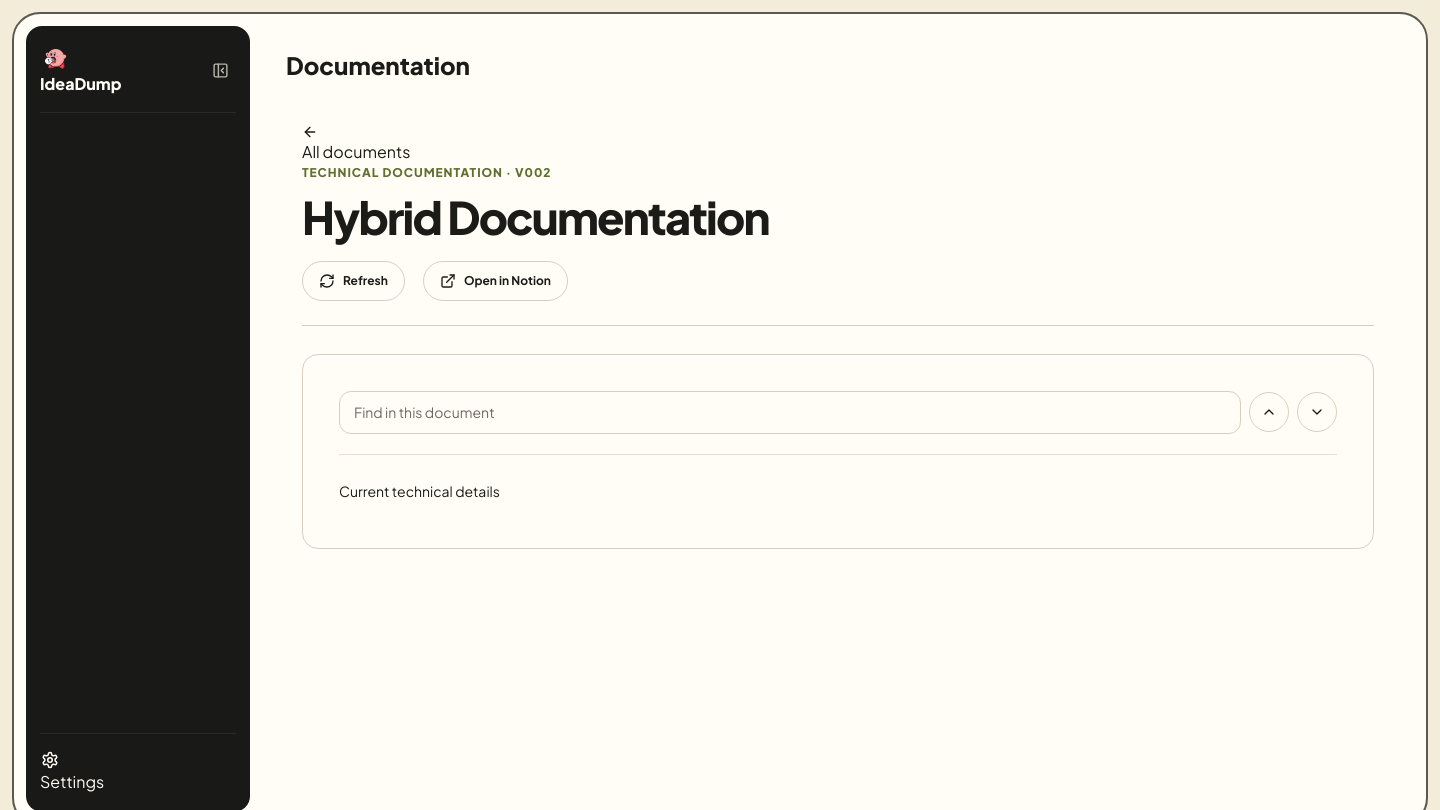
Test: documentation reader refresh › retains stale content after a provider failure and clears it after access is revoked
Expected: the text "Current technical details" is shown, [339,482,500,500]
Click the button "Refresh": (353, 281) [302,261,405,301]
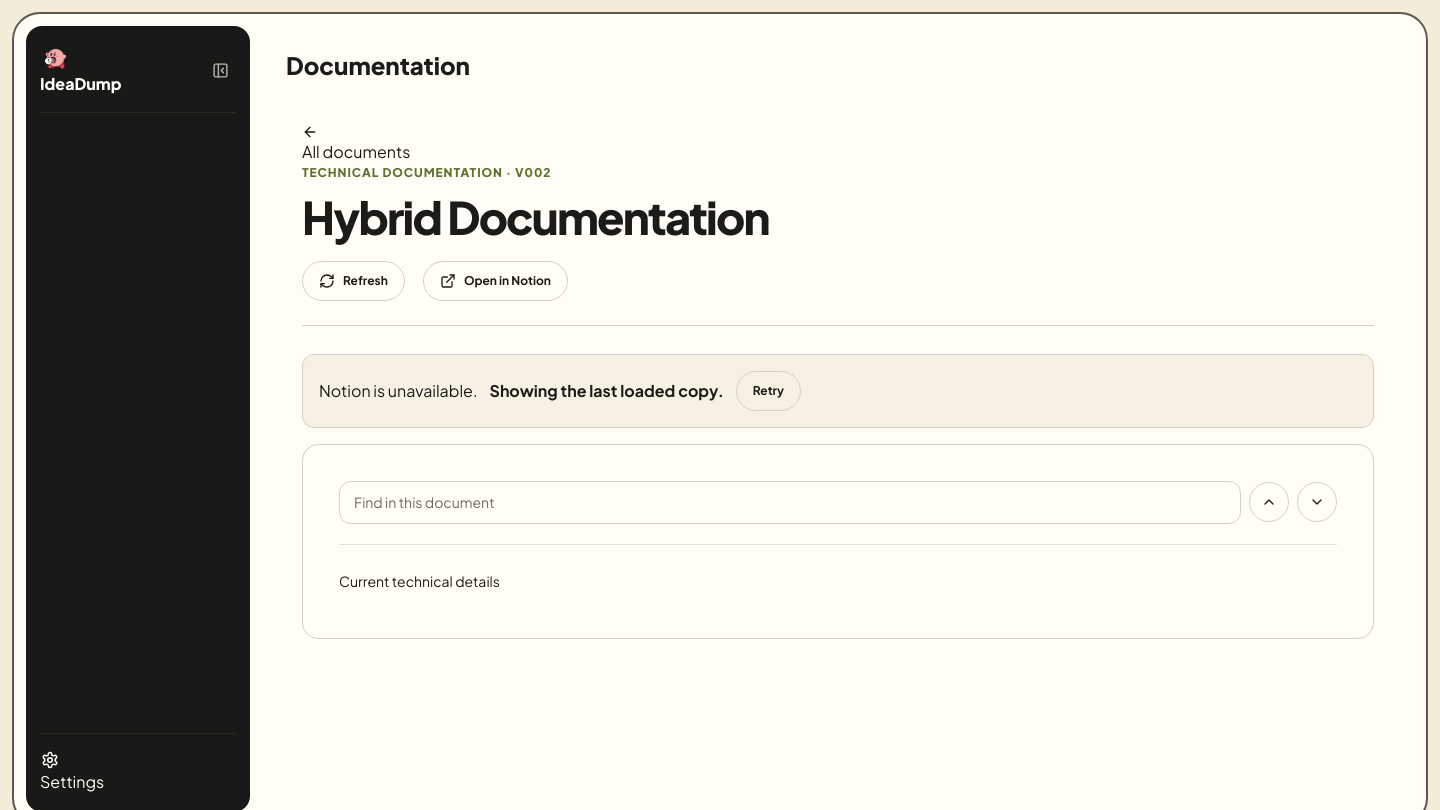
Expected: the text "Current technical details" is shown, [339,572,500,590]
Result: the text "Showing the last loaded copy." is shown at [490,379,724,403]
Click the button "Retry": (768, 391) [736,371,801,411]
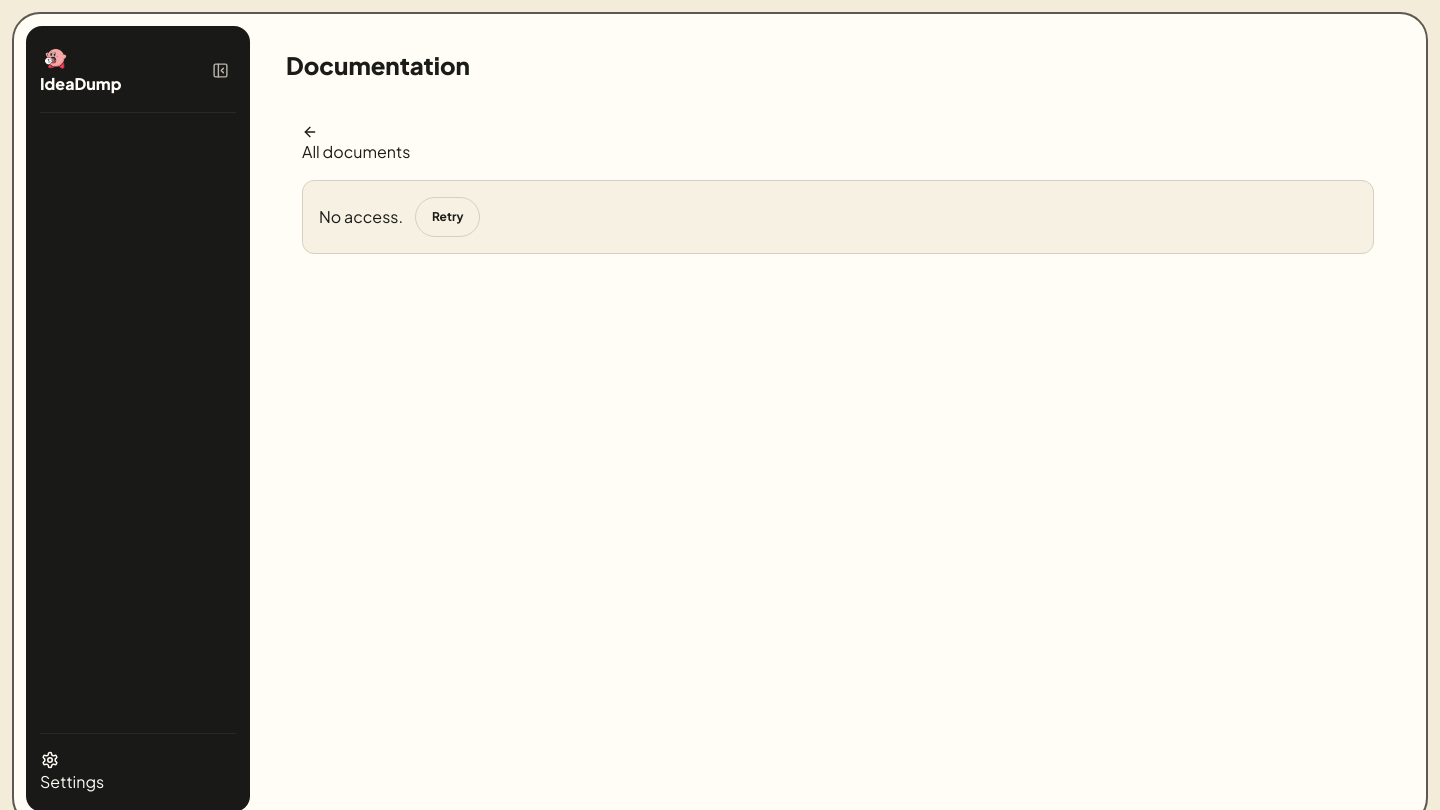
Result: the text "Current technical details" is gone
Result: the text "No access." is shown at [319,206,403,227]
